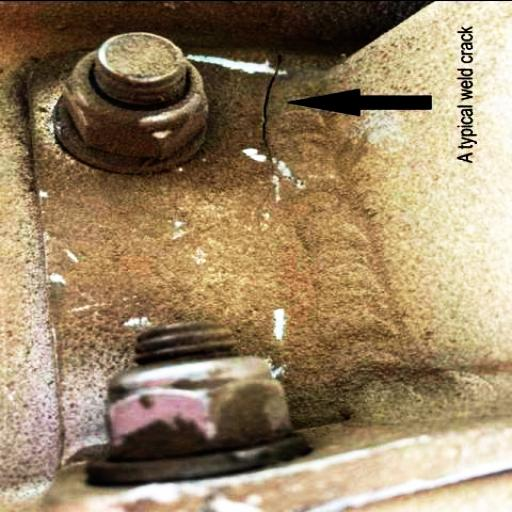crack: (262, 55, 279, 156)
